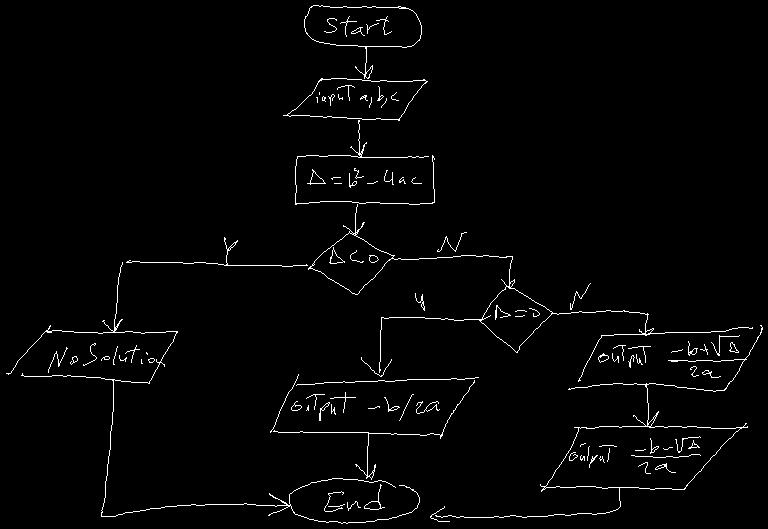arrow: (101, 380, 290, 516), (102, 260, 307, 331), (361, 317, 480, 376), (430, 487, 620, 521), (389, 255, 514, 288), (552, 310, 653, 335), (633, 383, 658, 427), (355, 433, 375, 479), (343, 204, 364, 234), (350, 120, 366, 156), (355, 47, 372, 78)
data: (540, 423, 747, 491), (270, 374, 478, 438), (568, 325, 762, 391), (6, 325, 177, 383), (283, 78, 427, 120)
decision: (308, 231, 394, 294), (478, 286, 552, 352)
process: (295, 155, 434, 204)
terminator: (289, 478, 419, 523), (304, 5, 421, 47)
text: (598, 335, 746, 377), (569, 436, 700, 473), (291, 392, 439, 420), (48, 343, 164, 372), (307, 168, 421, 187), (316, 85, 398, 107), (324, 484, 384, 511), (324, 16, 391, 36), (329, 247, 378, 263), (495, 305, 539, 319), (437, 232, 466, 251), (570, 283, 590, 309), (224, 237, 237, 265), (415, 293, 424, 310)
